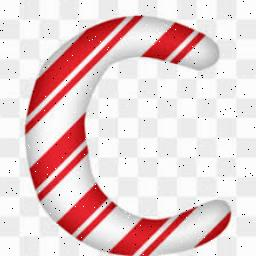c: (14, 14, 244, 256)
